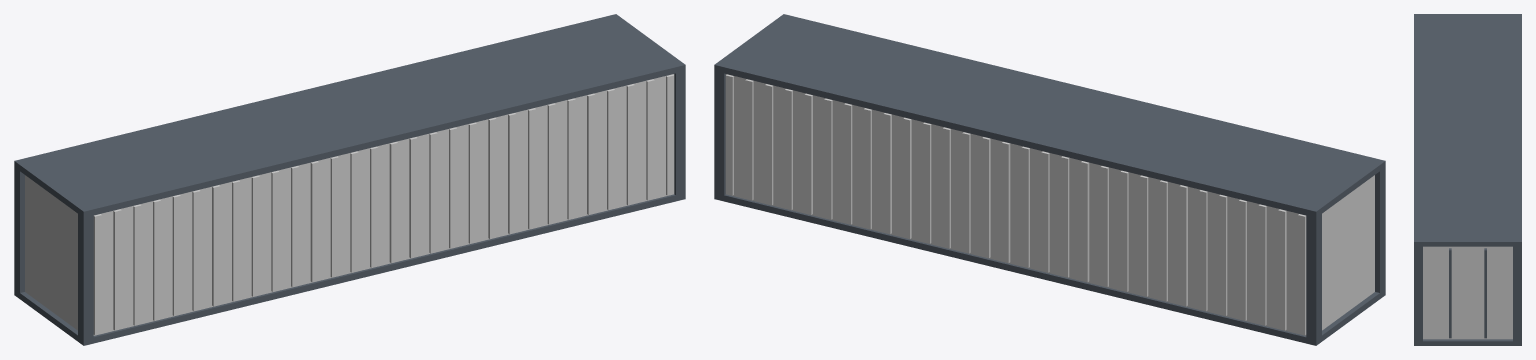
Rendered from cp_container.glb.
The picture shows the model from 3 angles, left to right: view 1: azimuth 30°, elevation 25°; view 2: azimuth 150°, elevation 25°; view 3: azimuth 270°, elevation 25°; orthographic projection. The views are drawn at different scales.
Visible parts, largest first — view 1: city_cp_container; view 2: city_cp_container; view 3: city_cp_container.
Boxes of the visible parts, x1,y1,x2,y2 form: city_cp_container: (14, 14, 685, 345); city_cp_container: (714, 14, 1385, 345); city_cp_container: (1414, 14, 1521, 345).
Bounding box in the file's own units: 12.22 × 2.6 × 2.44.
2 materials, 1 textured.
